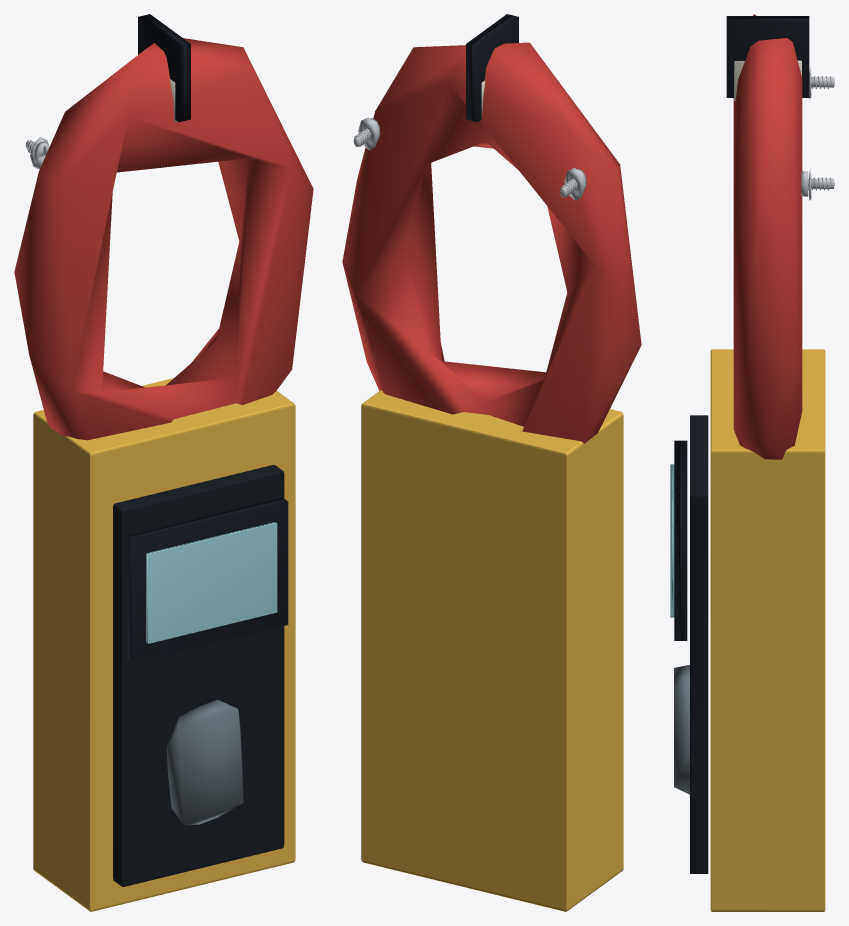
File: clamp_default.low.glb
3 renders of one model, left to right at view 1: azimuth 30°, elevation 25°; view 2: azimuth 150°, elevation 25°; view 3: azimuth 270°, elevation 25°, orthographic.
Parts seen in each view (by area): view 1: part:body, part:sensing, part:display, part:actuator; view 2: part:body, part:sensing; view 3: part:body, part:sensing, part:display, part:actuator, part:mounting.001 · Detail zinc plated fixing.
Boxes of the visible parts, x1,y1,x2,y2 form: part:body: [33, 378, 295, 911]; part:sensing: [14, 14, 313, 440]; part:display: [127, 497, 288, 662]; part:actuator: [166, 699, 243, 825]; part:body: [361, 390, 623, 911]; part:sensing: [342, 14, 641, 443]; part:body: [690, 349, 825, 911]; part:sensing: [726, 14, 809, 459]; part:display: [670, 440, 687, 640]; part:actuator: [674, 664, 689, 794]; part:mounting.001 · Detail zinc plated fixing: [801, 171, 834, 196].
Size of the model in its own units: 0.5089 by 1.43 by 0.2529.
